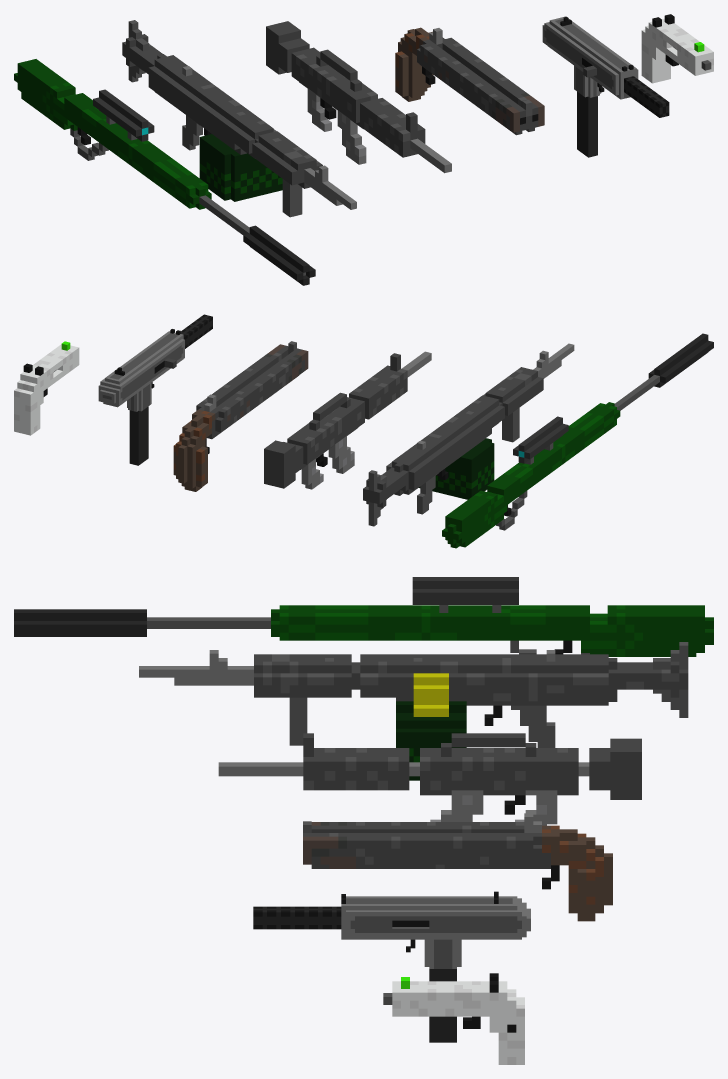
Rendered from voxel_gun_pack.glb.
The picture shows the model from 3 angles, top to bottom: view 1: azimuth 30°, elevation 25°; view 2: azimuth 150°, elevation 25°; view 3: azimuth 270°, elevation 25°; orthographic projection. The views are drawn at different scales.
Parts seen in each view (by area): view 1: default_4_Guns_0, default_1_Guns_0, default_5_Guns_0, default_2_Shotgun_0, default_Guns_0, default_3_Guns_0; view 2: default_4_Guns_0, default_1_Guns_0, default_5_Guns_0, default_2_Shotgun_0, default_Guns_0, default_3_Guns_0; view 3: default_4_Guns_0, default_1_Guns_0, default_5_Guns_0, default_2_Shotgun_0, default_Guns_0, default_3_Guns_0.
Boxes of the visible parts, x1,y1,x2,y2 form: default_4_Guns_0: (122, 20, 356, 217); default_1_Guns_0: (14, 59, 315, 285); default_5_Guns_0: (266, 21, 451, 173); default_2_Shotgun_0: (395, 27, 544, 135); default_Guns_0: (542, 16, 669, 157); default_3_Guns_0: (641, 14, 713, 83); default_4_Guns_0: (363, 343, 574, 526); default_1_Guns_0: (442, 333, 713, 548); default_5_Guns_0: (264, 351, 431, 489); default_2_Shotgun_0: (173, 341, 308, 491); default_Guns_0: (98, 314, 212, 465); default_3_Guns_0: (14, 341, 79, 435); default_4_Guns_0: (139, 642, 688, 780); default_1_Guns_0: (14, 577, 713, 656); default_5_Guns_0: (218, 733, 641, 825); default_2_Shotgun_0: (303, 813, 612, 921); default_Guns_0: (253, 891, 530, 1042); default_3_Guns_0: (383, 973, 524, 1064).
Bounding box in the file's own units: 9.18 × 2.32 × 7.9.
Materials: 2 (2 with a texture image).
